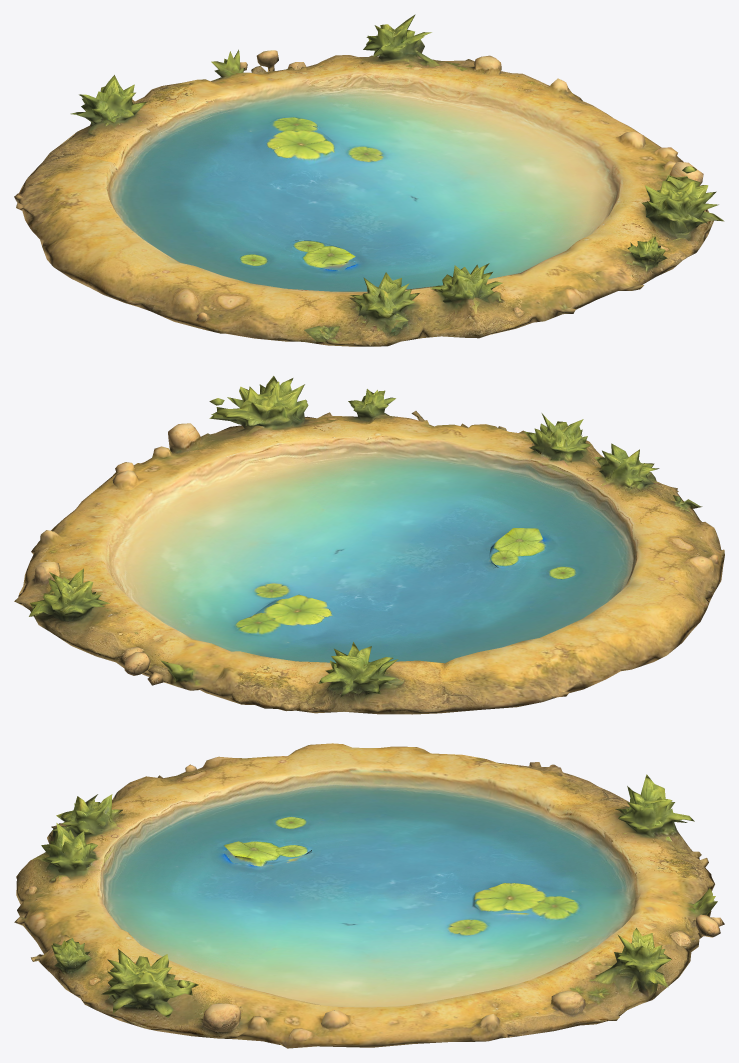
File: tripo_convert_42c407ac-2e8a-4fe6-8e49-4cc270780151.fbx
3 views of the same model, one above another, from view 1: azimuth 30°, elevation 25°; view 2: azimuth 150°, elevation 25°; view 3: azimuth 270°, elevation 25° (orthographic). The views are drawn at different scales.
Visible parts, largest first — view 1: tripo_node_42c407ac; view 2: tripo_node_42c407ac; view 3: tripo_node_42c407ac.
Part boxes in pixels (left/top/right/bottom): tripo_node_42c407ac: left=14, top=14, right=724, bottom=346; tripo_node_42c407ac: left=14, top=376, right=724, bottom=714; tripo_node_42c407ac: left=14, top=743, right=724, bottom=1048.
Bounding box in the file's own units: 0.9466 × 0.0815 × 0.9575.
